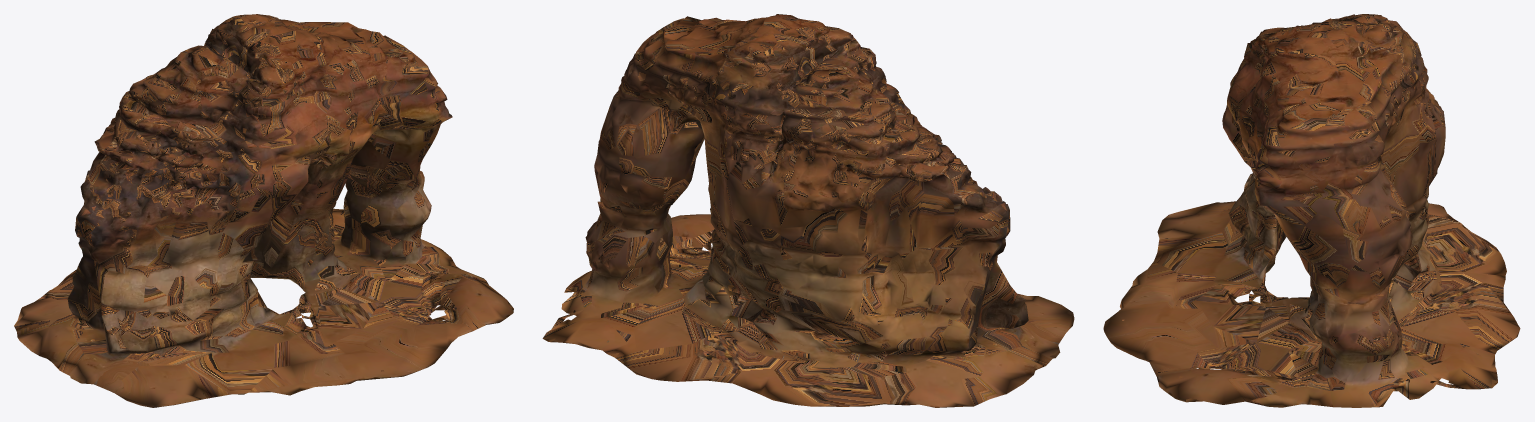
The model's file is Elephant_Rock_Formati.glb.
The picture shows the model from 3 angles, left to right: view 1: azimuth 30°, elevation 25°; view 2: azimuth 150°, elevation 25°; view 3: azimuth 270°, elevation 25°; orthographic projection. The views are drawn at different scales.
Parts seen in each view (by area): view 1: Elephant_Rock_Formati; view 2: Elephant_Rock_Formati; view 3: Elephant_Rock_Formati.
Boxes of the visible parts, x1,y1,x2,y2 form: Elephant_Rock_Formati: [14, 14, 513, 407]; Elephant_Rock_Formati: [542, 14, 1074, 407]; Elephant_Rock_Formati: [1103, 14, 1520, 407].
Size of the model in its own units: 1.9 by 1.2 by 1.55.
Materials: 1 (1 with a texture image).
